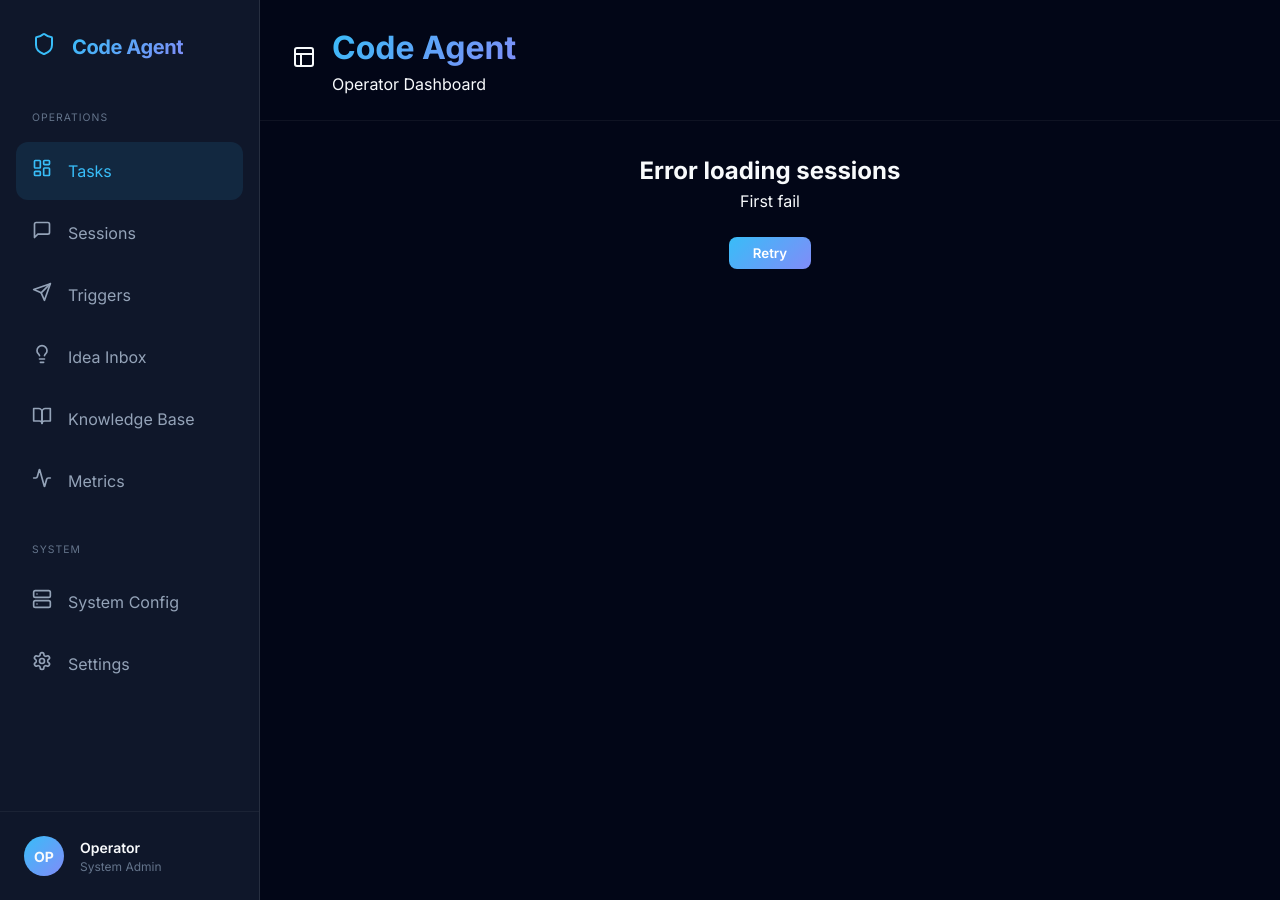
Test: SessionsPage › retries fetching sessions when Retry button is clicked
Expected: the heading "Error loading sessions" is shown, [640,156,900,185]
Click the button "Retry" at (770,253), box [729,237,811,269]
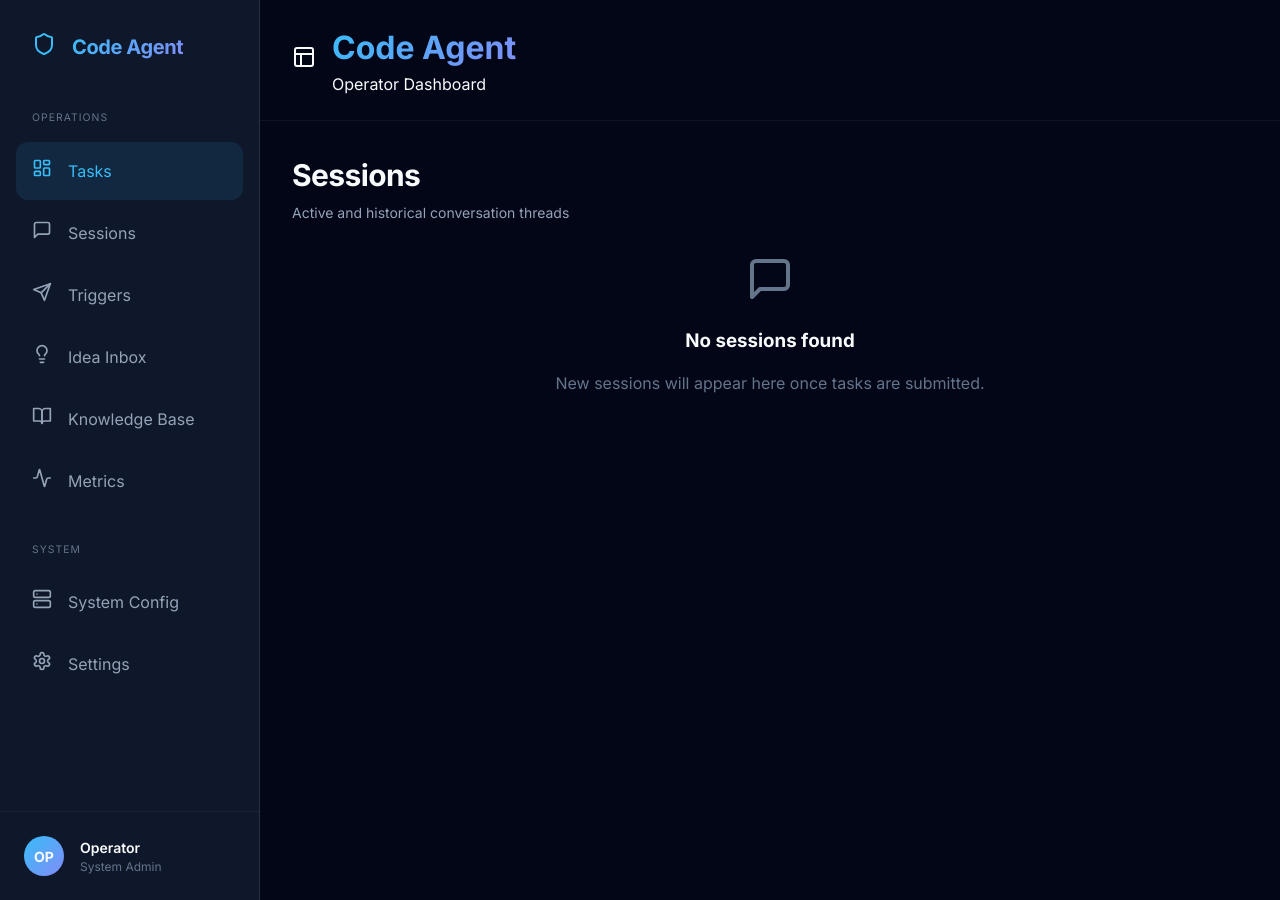
Now the heading "No sessions found" is shown, box [685,327,855,355]
